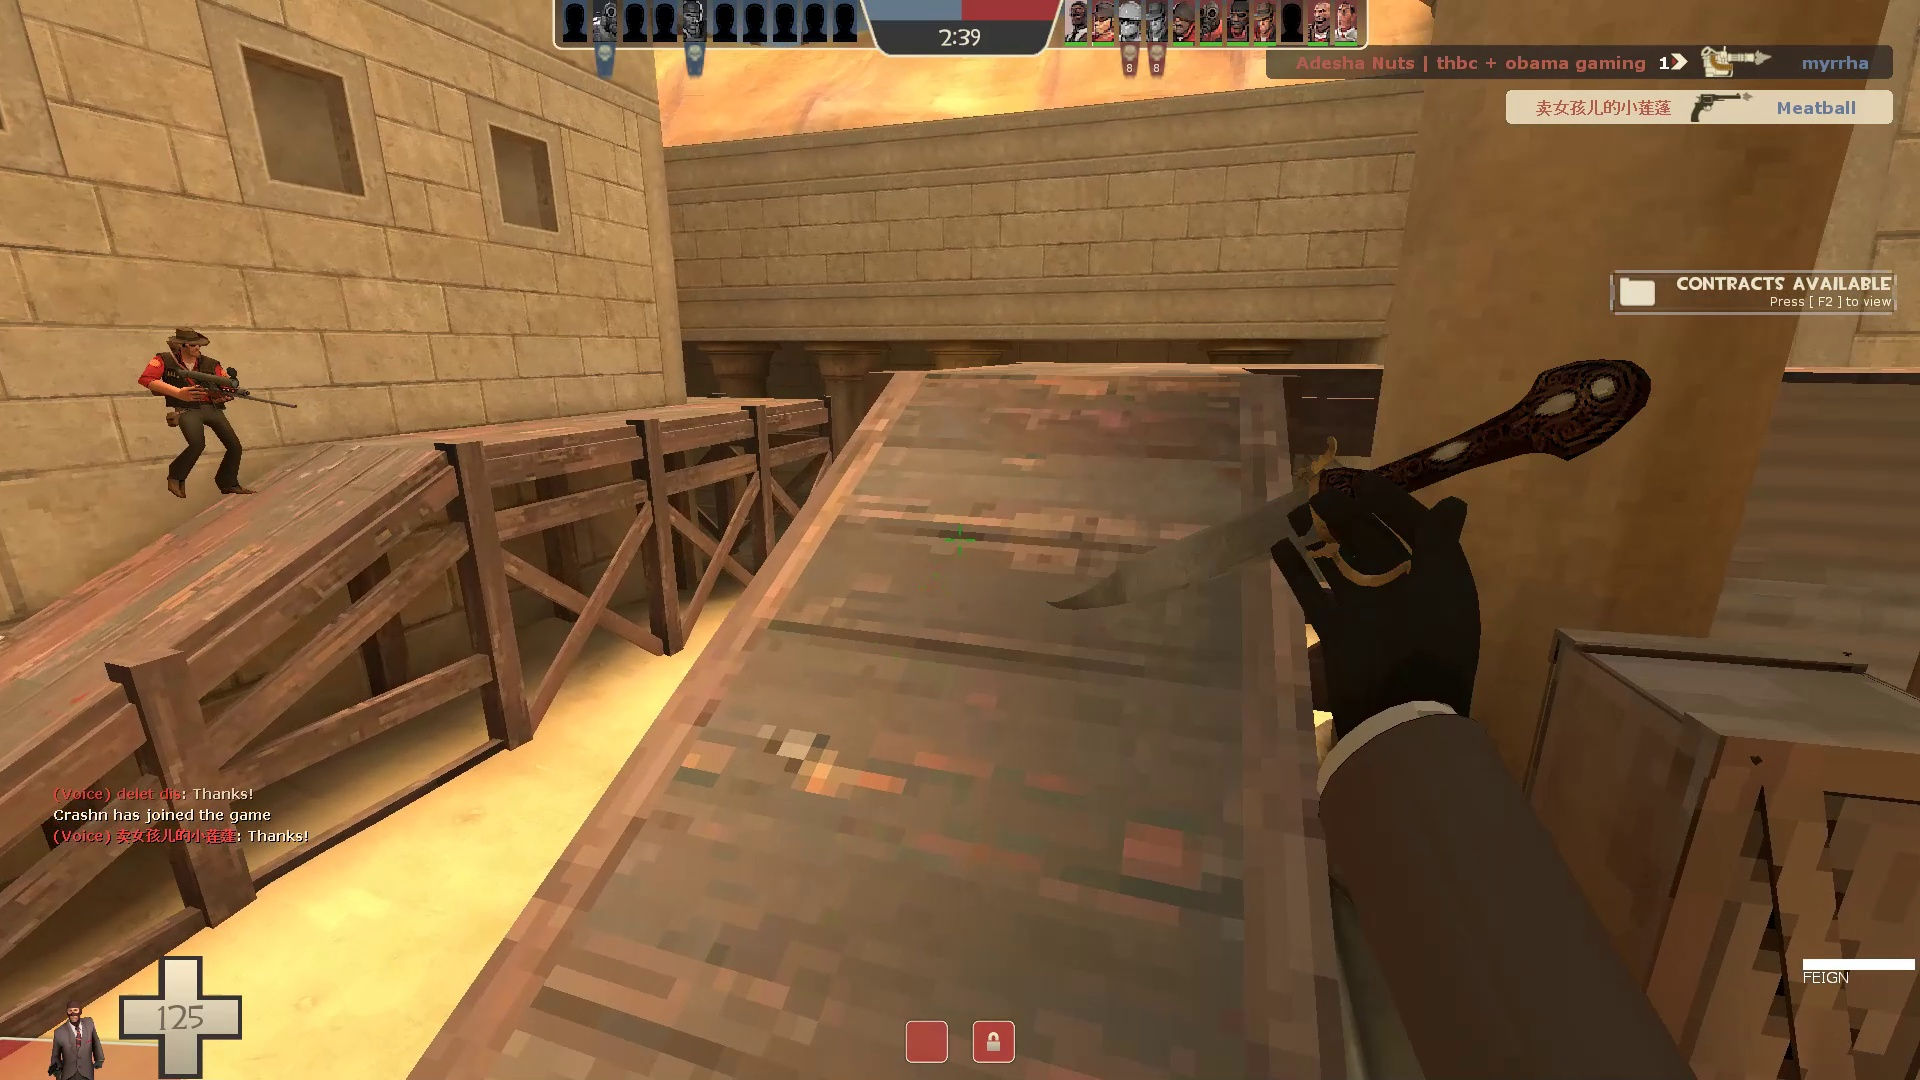red_sniper: (137, 324, 309, 513)
